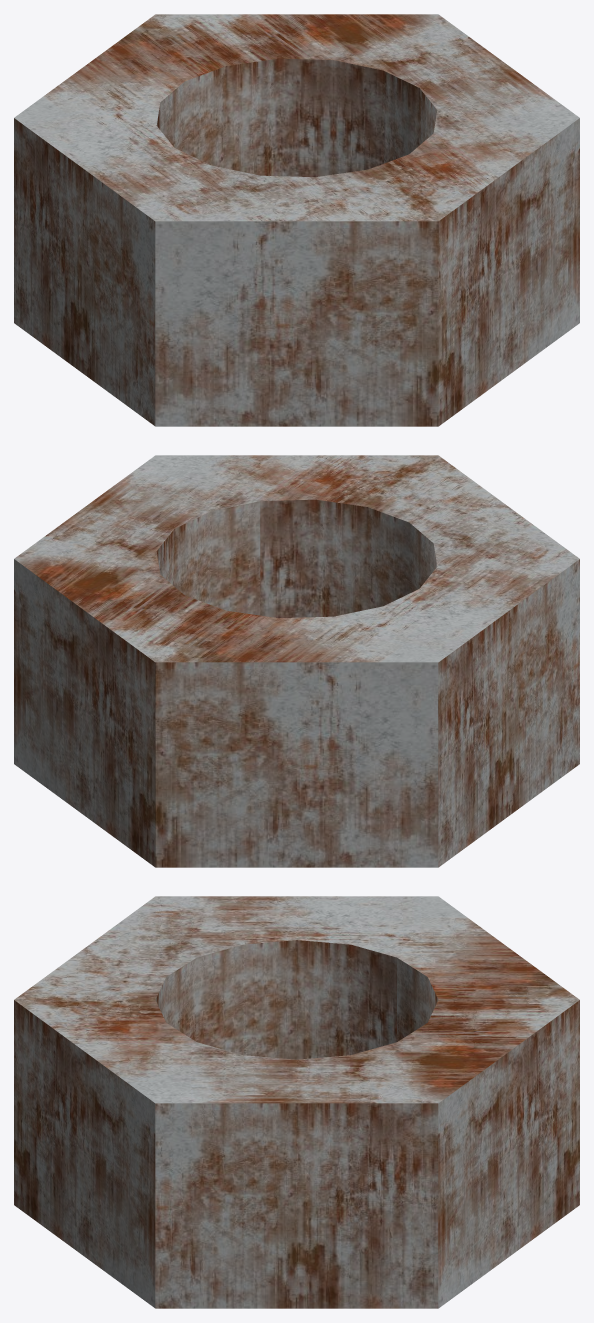
Rendered from nut_2.glb.
3 renders of one model, top to bottom at view 1: azimuth 30°, elevation 25°; view 2: azimuth 150°, elevation 25°; view 3: azimuth 270°, elevation 25°, orthographic.
Parts seen in each view (by area): view 1: nut_2; view 2: nut_2; view 3: nut_2.
Boxes of the visible parts, x1,y1,x2,y2 form: nut_2: (14, 14, 579, 426); nut_2: (14, 455, 579, 867); nut_2: (14, 896, 579, 1308).
Bounding box in the file's own units: 0.0346 × 0.016 × 0.04.
1 material, 1 textured.
